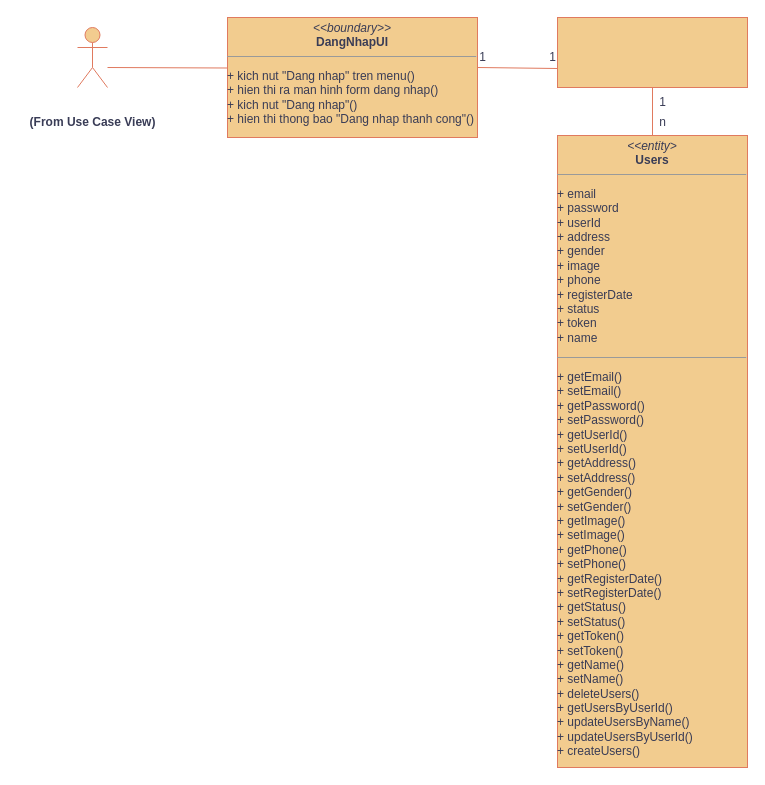
Some shapes in this 765 by 785 pixel diagram are drawn without their labels. Each missing label, with the box of its shape:
<<Control>> DangNhapController + kiemtranguoidung(): (556, 16, 748, 88)
KhachHang: (76, 26, 108, 88)
